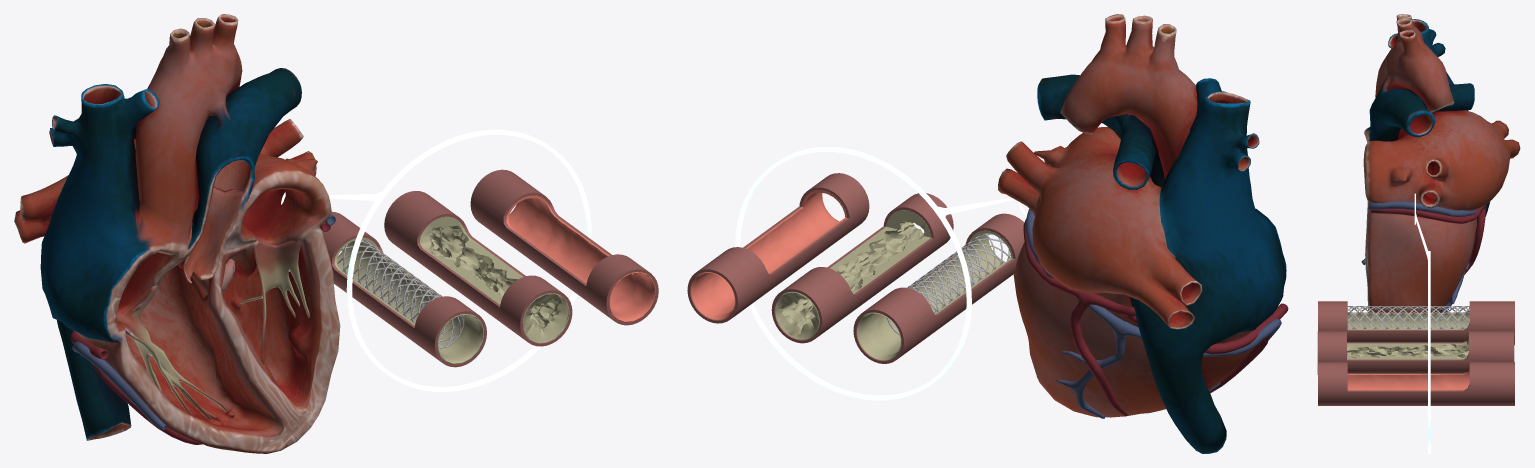
File: Aareforkalkning.glb
The picture shows the model from 3 angles, left to right: view 1: azimuth 30°, elevation 25°; view 2: azimuth 150°, elevation 25°; view 3: azimuth 270°, elevation 25°; orthographic projection. The views are drawn at different scales.
Parts seen in each view (by area): view 1: Heart.001, Vein_Aareforkalkning, Healthy_Vein, Healthy_Vein.001, Circle.001, Healthy_Vein.002, CoronaryArtery.001; view 2: Heart.001, Healthy_Vein, Vein_Aareforkalkning, Healthy_Vein.001, CoronaryArtery.001, Circle.001, Healthy_Vein.002; view 3: Heart.001, Healthy_Vein, Vein_Aareforkalkning, Healthy_Vein.001, CoronaryArtery.001, Healthy_Vein.002, Circle.001.
Boxes of the visible parts, <box> form: Heart.001: <box>14,14,340,453</box>; Vein_Aareforkalkning: <box>384,191,572,346</box>; Healthy_Vein: <box>470,169,658,325</box>; Healthy_Vein.001: <box>321,211,486,367</box>; Circle.001: <box>281,129,591,391</box>; Healthy_Vein.002: <box>337,240,464,348</box>; CoronaryArtery.001: <box>70,214,335,444</box>; Heart.001: <box>998,14,1286,453</box>; Healthy_Vein: <box>687,173,869,323</box>; Vein_Aareforkalkning: <box>771,193,953,343</box>; Healthy_Vein.001: <box>853,213,1024,363</box>; CoronaryArtery.001: <box>1023,209,1288,418</box>; Circle.001: <box>735,147,1027,400</box>; Healthy_Vein.002: <box>886,233,1010,334</box>; Heart.001: <box>1363,14,1520,312</box>; Healthy_Vein: <box>1318,362,1514,405</box>; Vein_Aareforkalkning: <box>1317,331,1514,374</box>; Healthy_Vein.001: <box>1318,301,1514,345</box>; CoronaryArtery.001: <box>1361,201,1486,312</box>; Healthy_Vein.002: <box>1347,306,1469,329</box>; Circle.001: <box>1414,193,1430,453</box>.
Bounding box in the file's own units: 23.3 × 18.19 × 10.31.
Materials: 8 (1 with a texture image).
